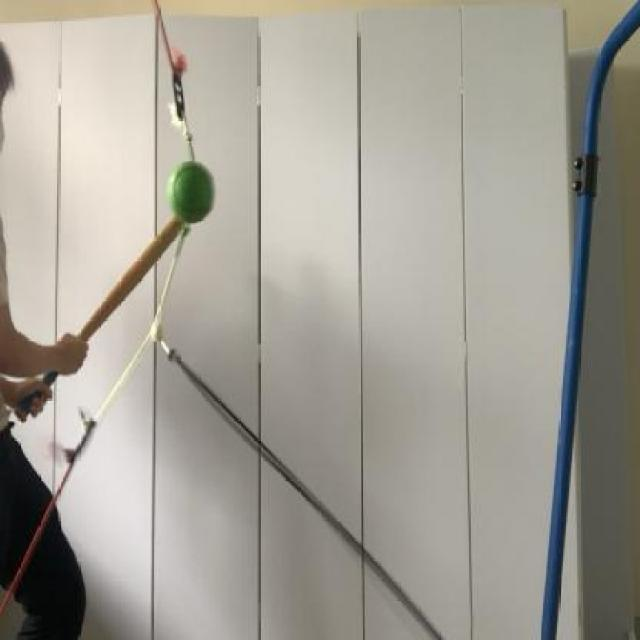baseball: (161, 148, 221, 229)
